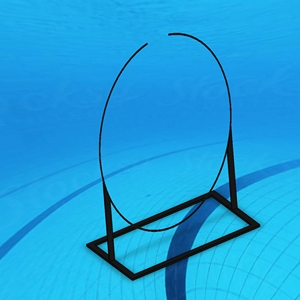circle: (81, 32, 263, 284)
